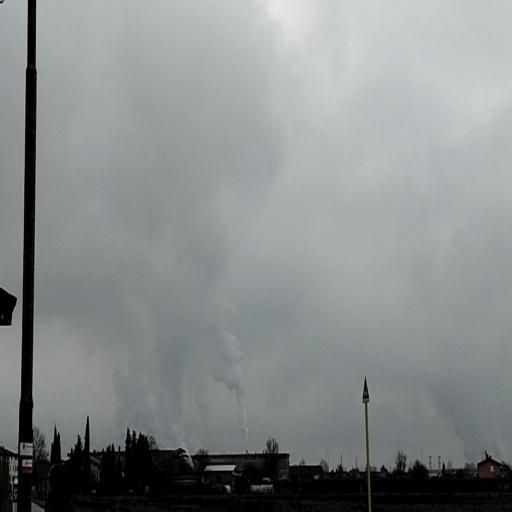leakage: (47, 188, 257, 473)
